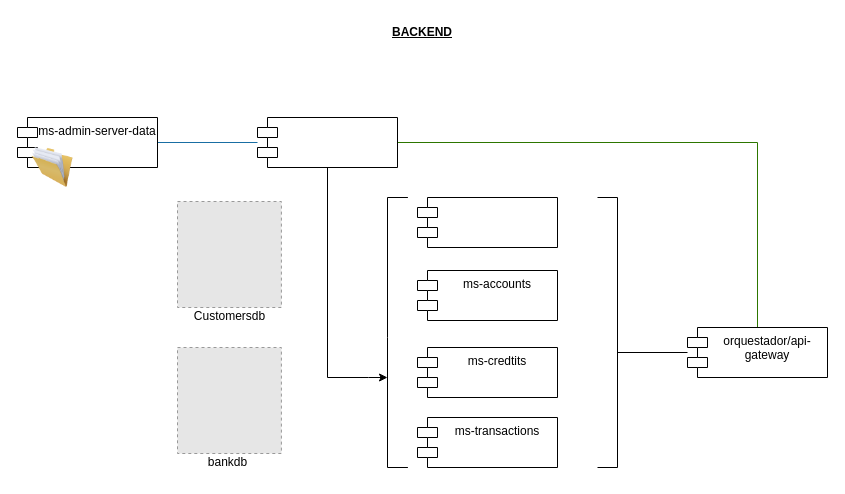
Some shapes in this 845 by 494 pixel diagram are drawn without their labels. Grey dashed boxes stand in for pictures. The shapes that lost their labels are listed below. From the top down, each one's centre as x and y in pixels, then its label:
(x=327, y=142): config-server
(x=487, y=222): ms-customer
